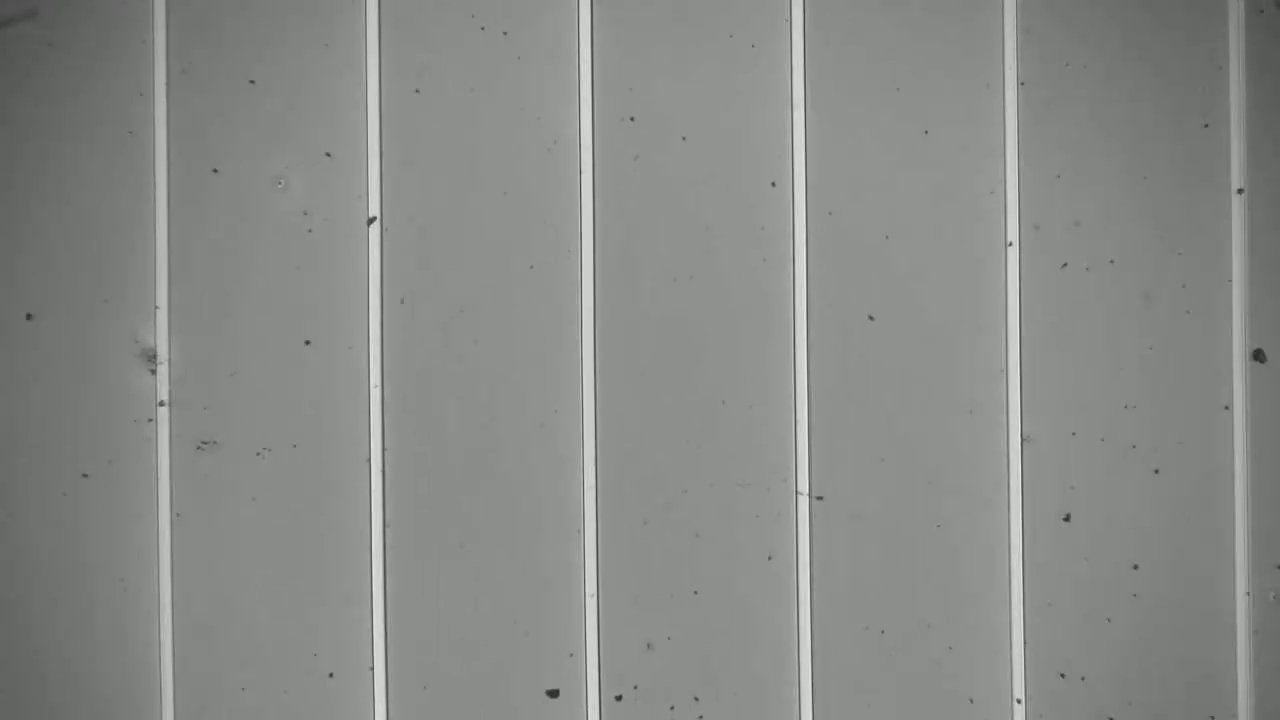stains_enbedded: (362, 208, 386, 231)
